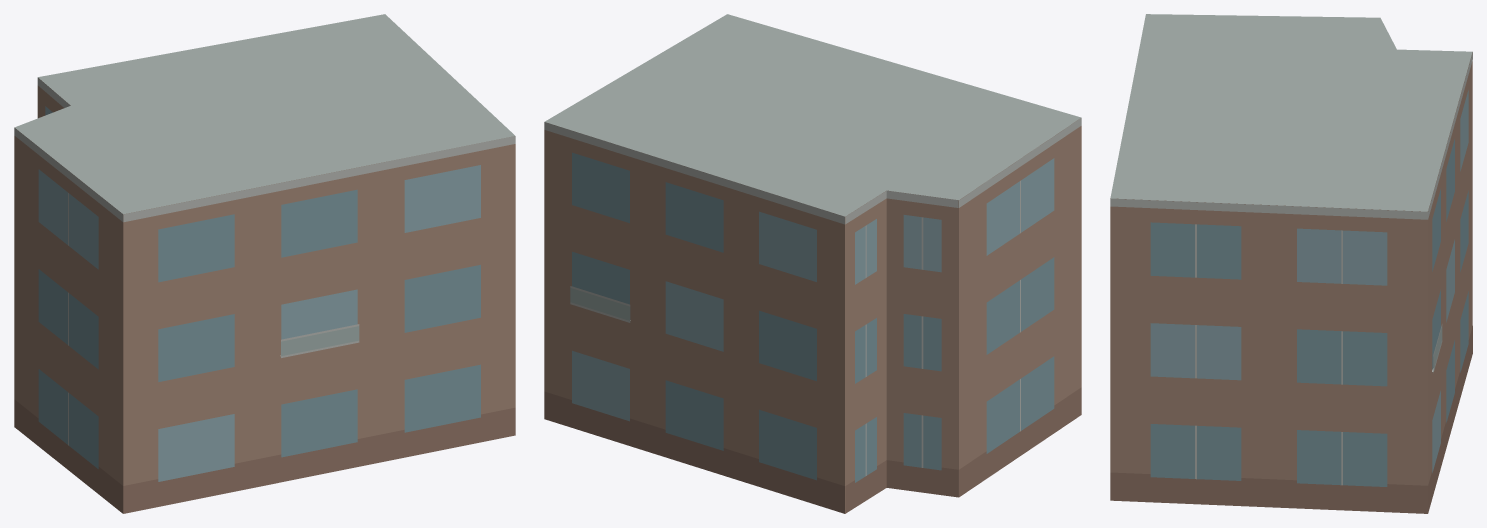
The model's file is survey-upis-32804055.glb.
The picture shows the model from 3 angles, left to right: view 1: azimuth 30°, elevation 25°; view 2: azimuth 150°, elevation 25°; view 3: azimuth 270°, elevation 25°; orthographic projection.
Parts seen in each view (by area): view 1: survey-upis-32804055.tmp; view 2: survey-upis-32804055.tmp; view 3: survey-upis-32804055.tmp.
Part boxes in pixels (x1=…): survey-upis-32804055.tmp: x1=14, y1=14, x2=515, y2=513; survey-upis-32804055.tmp: x1=544, y1=14, x2=1081, y2=513; survey-upis-32804055.tmp: x1=1110, y1=14, x2=1472, y2=513.
Bounding box in the file's own units: 12.85 × 9.15 × 9.96.
